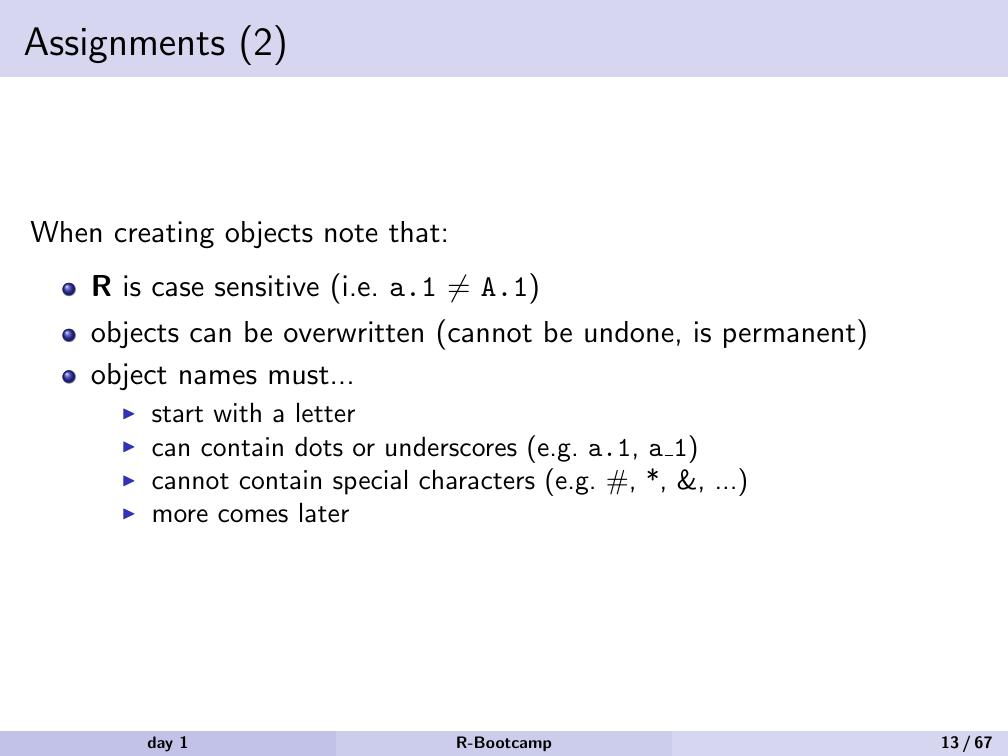Title: (15, 18, 292, 69)
